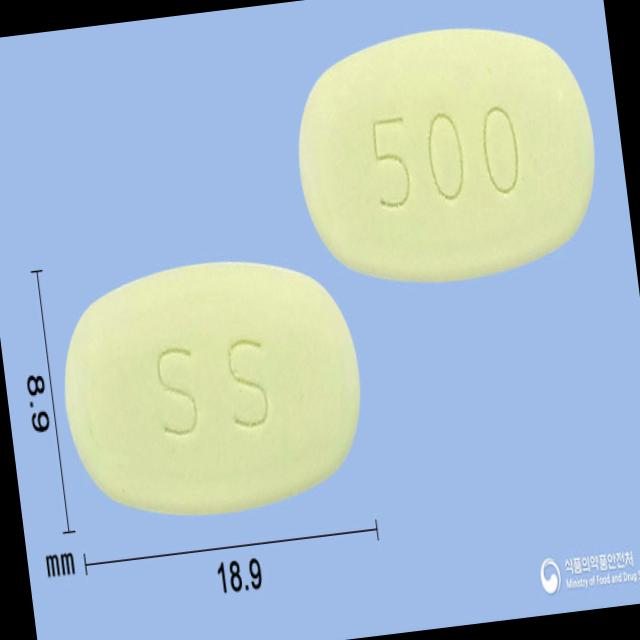Samsung Clarithromycin Tab-500mg: (49, 243, 377, 532), (284, 12, 610, 295)
